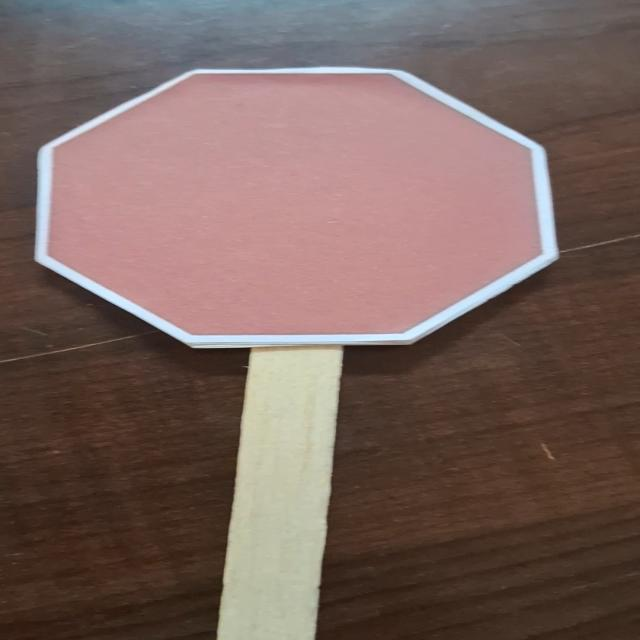Stop: (19, 62, 578, 358)
